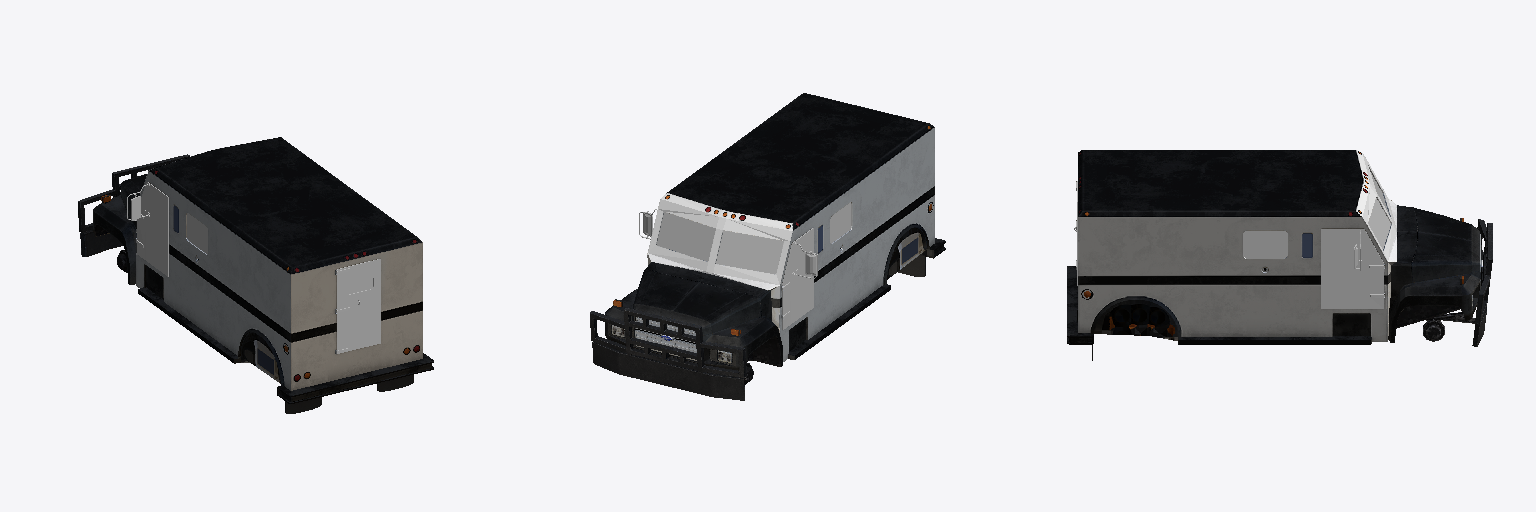
3 views of the same model, side by side, from view 1: azimuth 30°, elevation 25°; view 2: azimuth 150°, elevation 25°; view 3: azimuth 270°, elevation 25° (orthographic).
Parts seen in each view (by area): view 1: base_mesh_Cube.011, RearDoor_obj_Cube.020, FrontLeftDoor_obj_Cube.016, Bullbar_obj_Cube.001, RearLeftWindow_obj_Cube.017; view 2: base_mesh_Cube.011, Hood_obj_Plane.018, Windshield_obj_Cube.015, Bullbar_obj_Cube.001, FrontLeftDoor_obj_Cube.016, RearLeftWindow_obj_Cube.017; view 3: base_mesh_Cube.011, FrontRightDoor_obj_Cube.012, Hood_obj_Plane.018, RearRightWindow_obj_Cube.022, Bullbar_obj_Cube.001, Windshield_obj_Cube.015.
Part boxes in pixels (bbox=[...]): base_mesh_Cube.011: bbox=[80, 137, 433, 413]; RearDoor_obj_Cube.020: bbox=[336, 259, 380, 353]; FrontLeftDoor_obj_Cube.016: bbox=[127, 182, 168, 276]; Bullbar_obj_Cube.001: bbox=[78, 154, 189, 232]; RearLeftWindow_obj_Cube.017: bbox=[187, 213, 207, 254]; base_mesh_Cube.011: bbox=[592, 93, 945, 400]; Hood_obj_Plane.018: bbox=[633, 269, 760, 335]; Windshield_obj_Cube.015: bbox=[657, 212, 783, 273]; Bullbar_obj_Cube.001: bbox=[590, 308, 746, 377]; FrontLeftDoor_obj_Cube.016: bbox=[782, 228, 817, 329]; RearLeftWindow_obj_Cube.017: bbox=[830, 202, 850, 243]; base_mesh_Cube.011: bbox=[1067, 150, 1486, 360]; FrontRightDoor_obj_Cube.012: bbox=[1321, 229, 1384, 308]; Hood_obj_Plane.018: bbox=[1412, 207, 1479, 282]; RearRightWindow_obj_Cube.022: bbox=[1243, 231, 1287, 258]; Bullbar_obj_Cube.001: bbox=[1475, 219, 1492, 323]; Windshield_obj_Cube.015: bbox=[1368, 173, 1390, 248].
Size of the model in its own units: 0.0402 by 0.0328 by 0.0834.
4 materials, 1 textured.